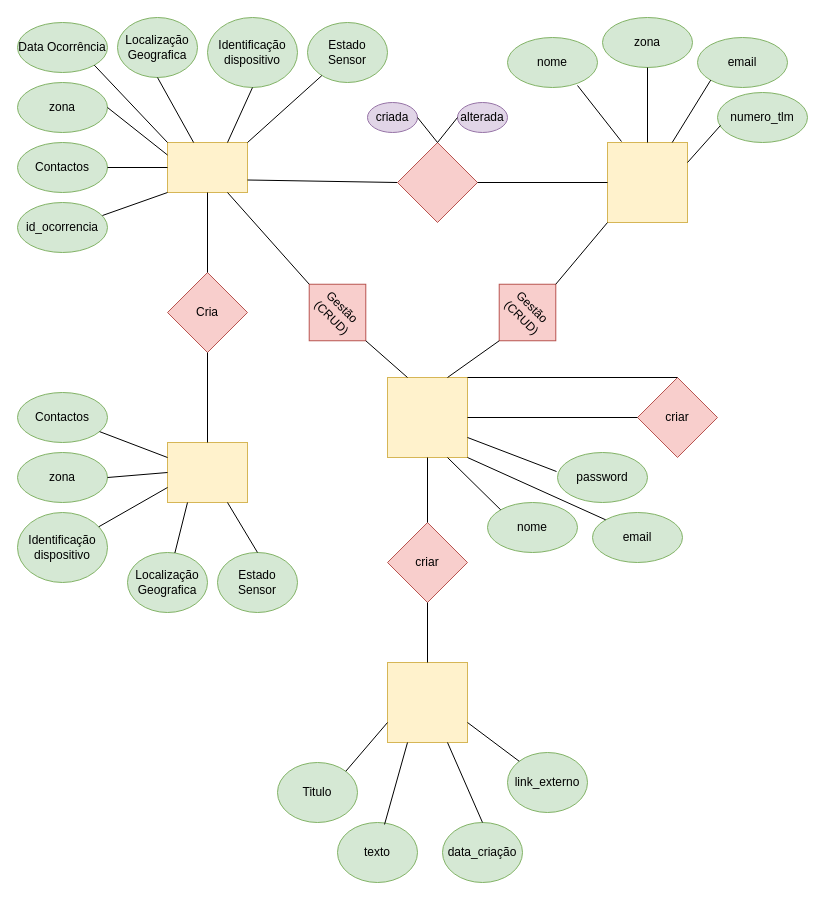
This 825x900 diagram has some shape labels left out. The centre of each missing label's shape, as x and y in pixels:
"Avisa" goes at point (437, 182).
"Dispositivo" goes at point (207, 472).
"Novidades (alertas)" goes at point (427, 702).
"Ocorrência" goes at point (207, 167).
"Piquete" goes at point (647, 182).
"Utilizador (gestor)" goes at point (427, 417).
